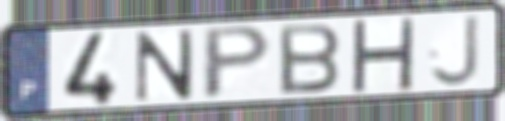4: (61, 29, 122, 108)
B: (275, 21, 344, 97)
H: (348, 17, 418, 93)
J: (427, 12, 483, 89)
N: (132, 27, 197, 104)
P: (199, 23, 275, 102)
